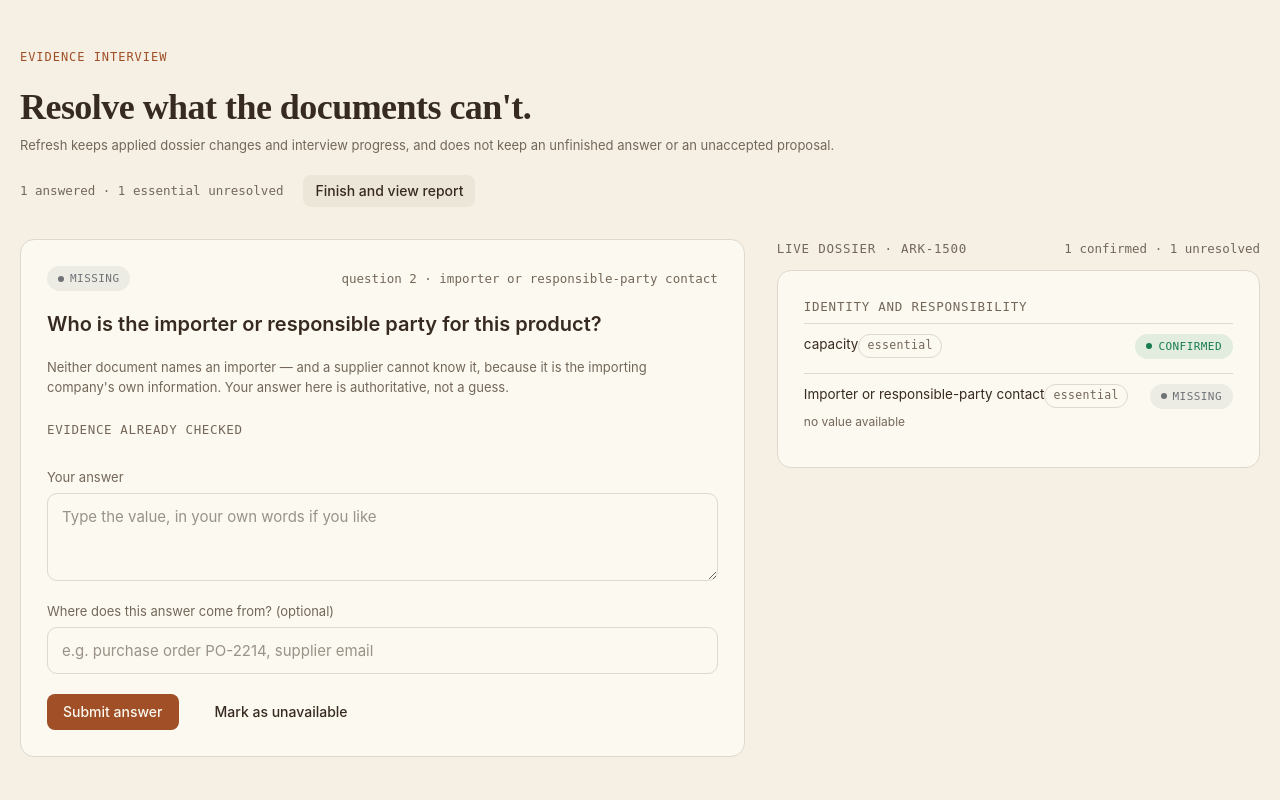
Test: InterviewWorkspace public demo › shows one-field guidance and skips interpret for multi-field answers
This screenshot has width=1280, height=800.
Type "Acme Imports GmbH — rated power should be 2200 W" into the text box labelled "Your answer" at (382, 537), box x1=47 y1=493 x2=718 y2=581
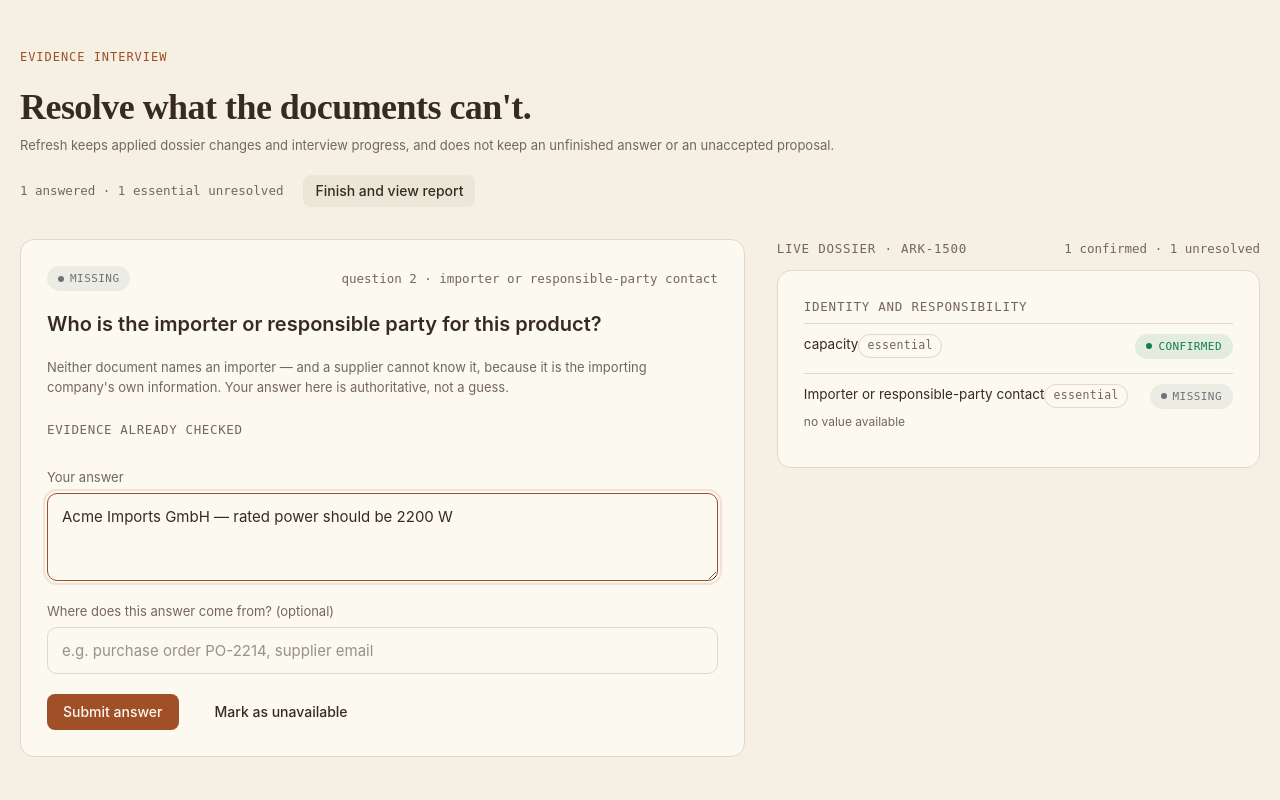
Click the button "Submit answer" at (113, 712), box x1=47 y1=694 x2=178 y2=730
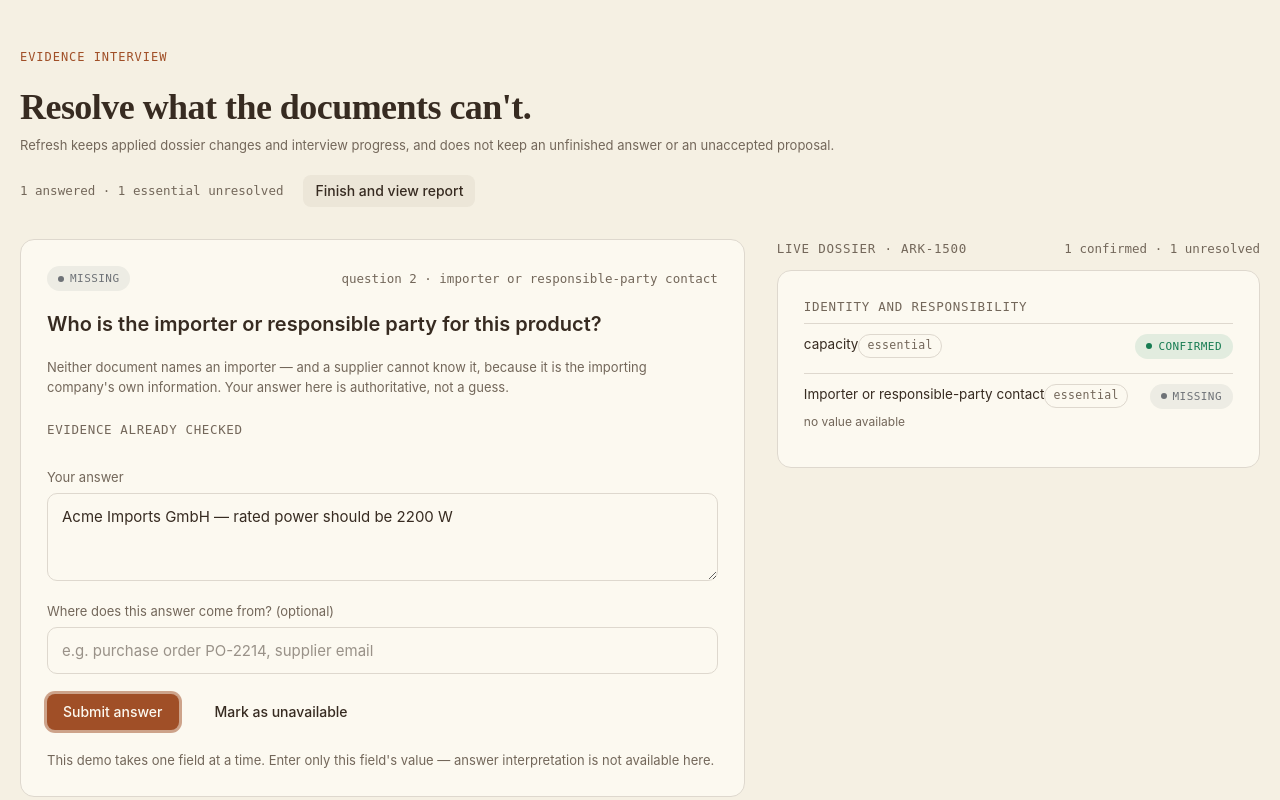
Check: the text "This demo takes one field at a time" is shown, box x1=47 y1=752 x2=714 y2=768
